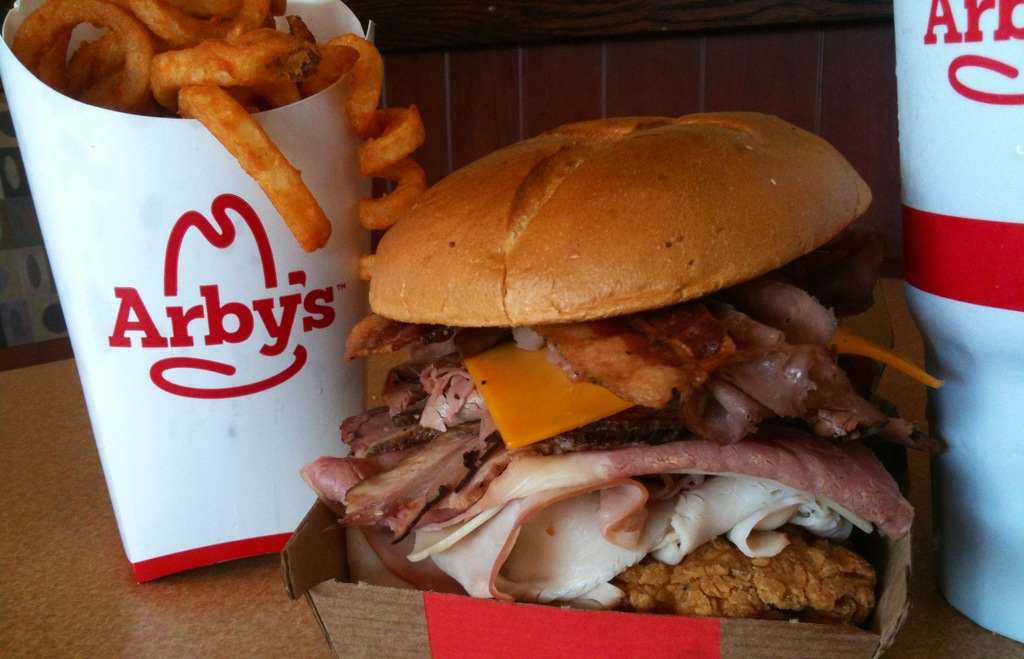French fries: (37, 0, 385, 236)
